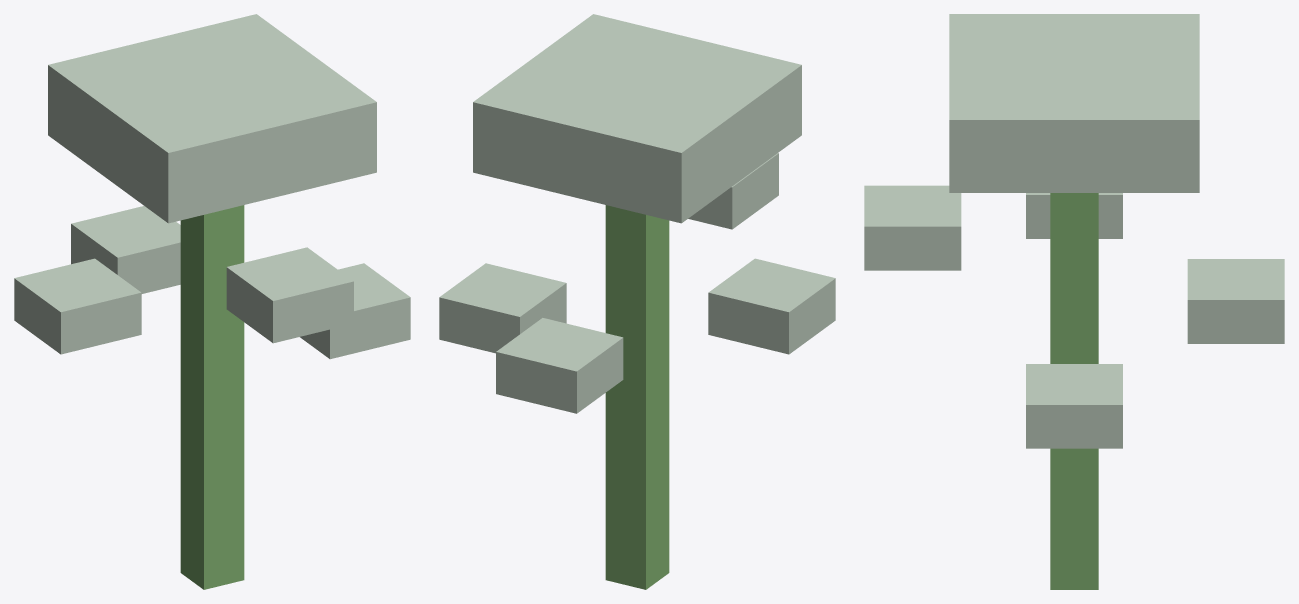
File: Prop_DS_Herb_ArchiveSage_S3.glb
3 views of the same model, side by side, from view 1: azimuth 30°, elevation 25°; view 2: azimuth 150°, elevation 25°; view 3: azimuth 270°, elevation 25° (orthographic). The views are drawn at different scales.
Parts seen in each view (by area): view 1: Prop_DS_Herb_ArchiveSage_S3; view 2: Prop_DS_Herb_ArchiveSage_S3; view 3: Prop_DS_Herb_ArchiveSage_S3.
Part boxes in pixels (left/top/right/bottom): Prop_DS_Herb_ArchiveSage_S3: left=14, top=14, right=410, bottom=589; Prop_DS_Herb_ArchiveSage_S3: left=439, top=14, right=835, bottom=589; Prop_DS_Herb_ArchiveSage_S3: left=864, top=14, right=1284, bottom=589.
Bounding box in the file's own units: 0.52 × 0.7 × 0.52.
